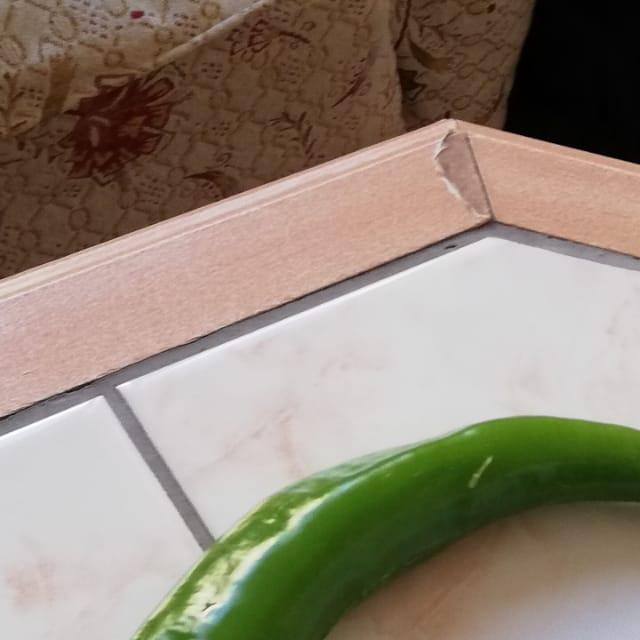chili_pepper: (2, 406, 640, 640)
